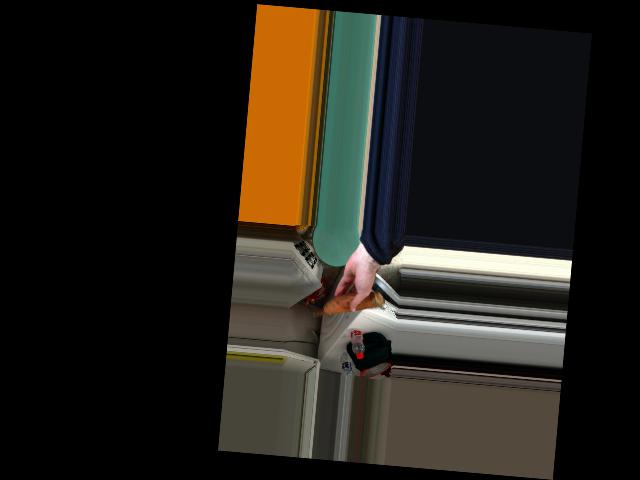sweet_potato: (315, 284, 381, 325)
